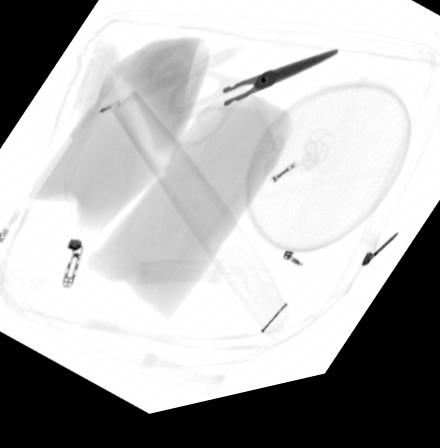Scissors: (163, 64, 337, 155)
